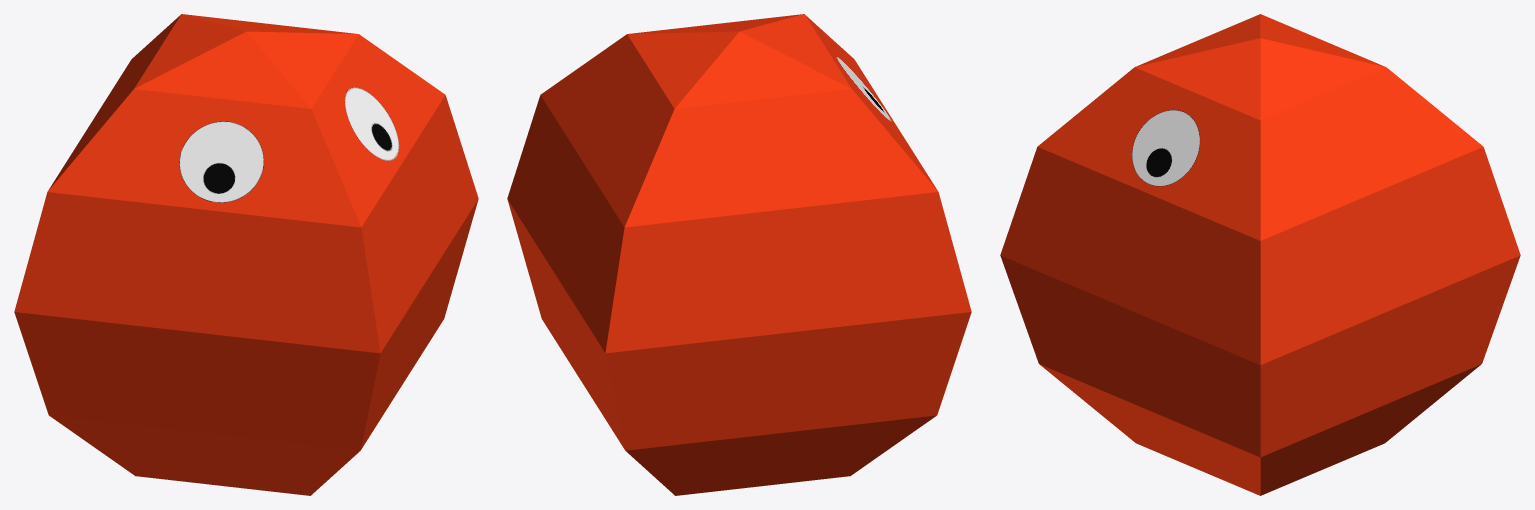
File: dot_idle.fbx
3 views of the same model, side by side, from view 1: azimuth 30°, elevation 25°; view 2: azimuth 150°, elevation 25°; view 3: azimuth 270°, elevation 25° (orthographic). The views are drawn at different scales.
Parts seen in each view (by area): view 1: dot; view 2: dot; view 3: dot.
Boxes of the visible parts, x1=… form: dot: x1=14, y1=14, x2=478, y2=495; dot: x1=507, y1=14, x2=971, y2=495; dot: x1=1000, y1=14, x2=1520, y2=495.
Size of the model in its own units: 21.17 by 18.19 by 21.17.
1 material, 1 textured.
